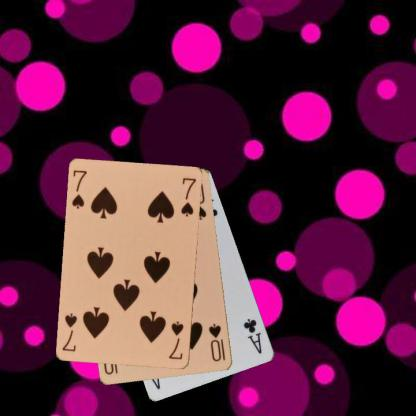10s: (206, 321, 227, 363)
7s: (166, 318, 186, 361), (70, 168, 88, 210)
Ac: (241, 316, 263, 355)
